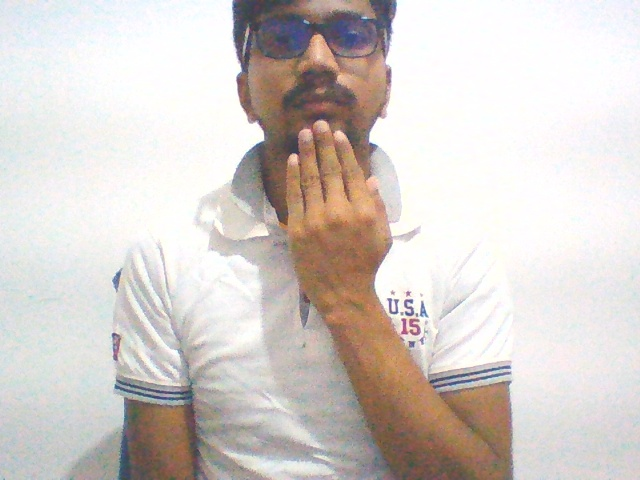mango: (278, 112, 403, 330)
